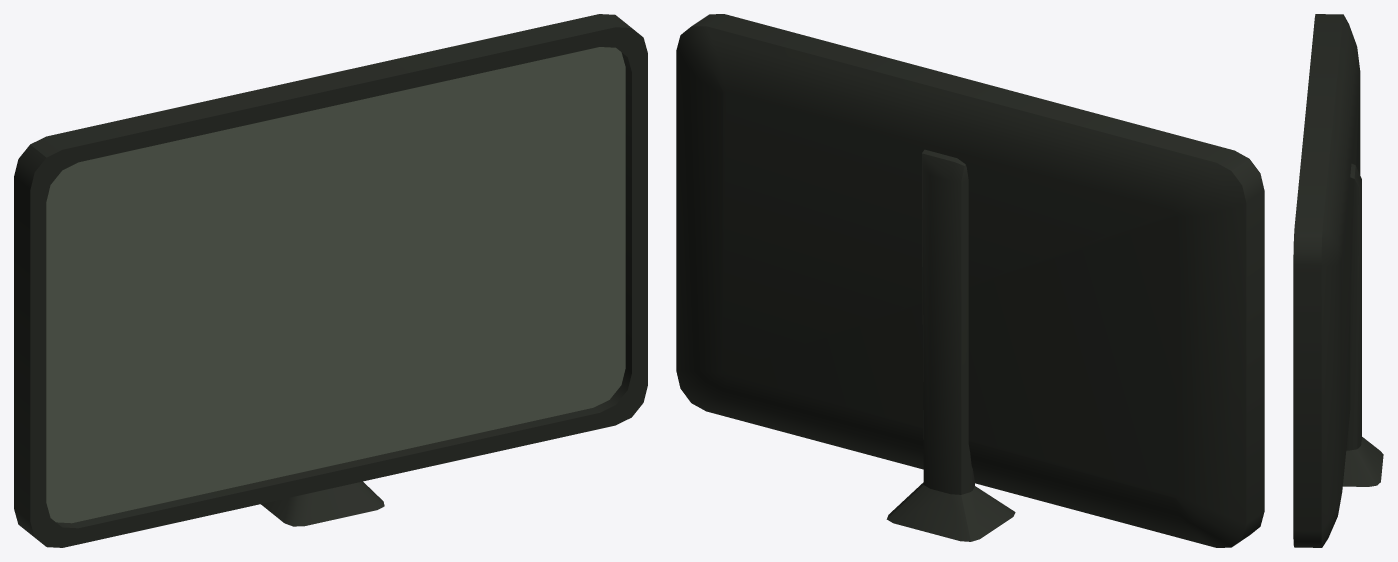
3 renders of one model, left to right at view 1: azimuth 30°, elevation 25°; view 2: azimuth 150°, elevation 25°; view 3: azimuth 270°, elevation 25°, orthographic. The views are drawn at different scales.
Parts seen in each view (by area): view 1: Cube.020; view 2: Cube.020; view 3: Cube.020.
Boxes of the visible parts, box(x1,y1,x2,y2) form: Cube.020: box(14, 14, 647, 547); Cube.020: box(676, 14, 1264, 547); Cube.020: box(1293, 14, 1383, 547).
Size of the model in its own units: 130 by 88.81 by 21.11.
1 material, 1 textured.
